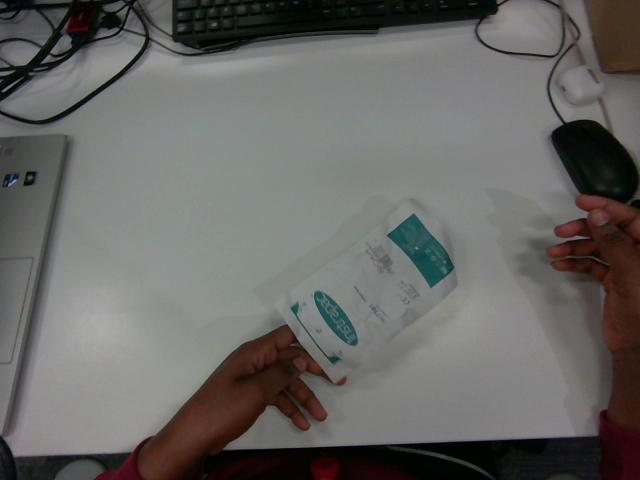gallipot: (276, 201, 456, 381)
